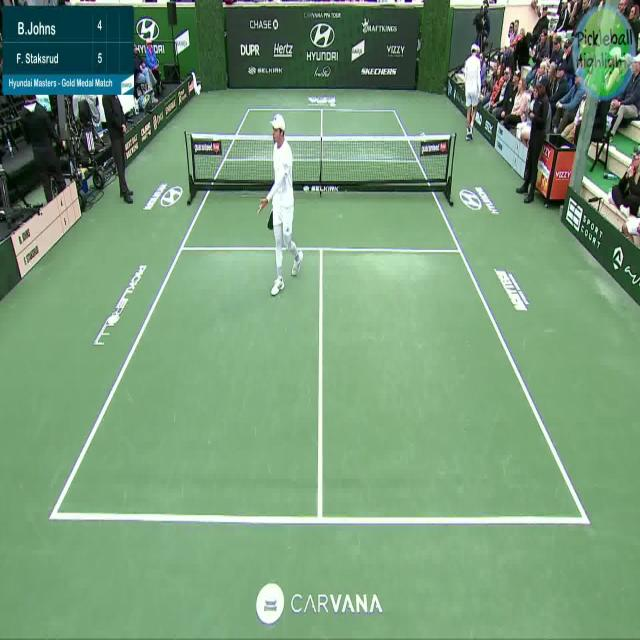Court: (49, 108, 590, 521)
